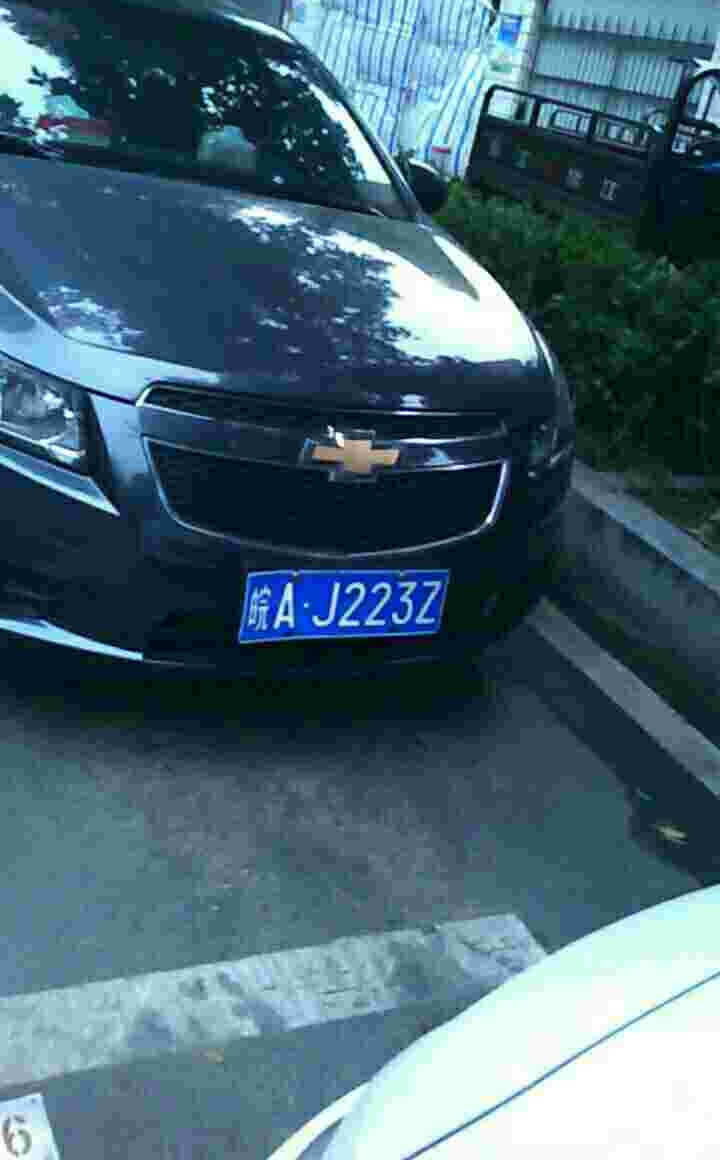license_plate: (236, 569, 458, 632)
